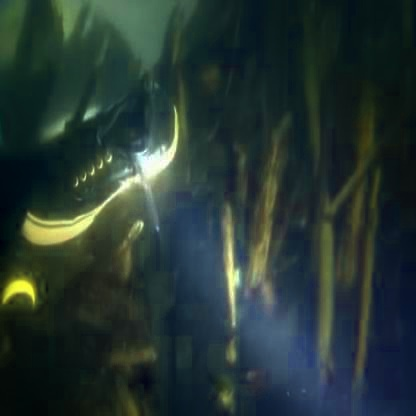misc: (13, 90, 182, 240)
